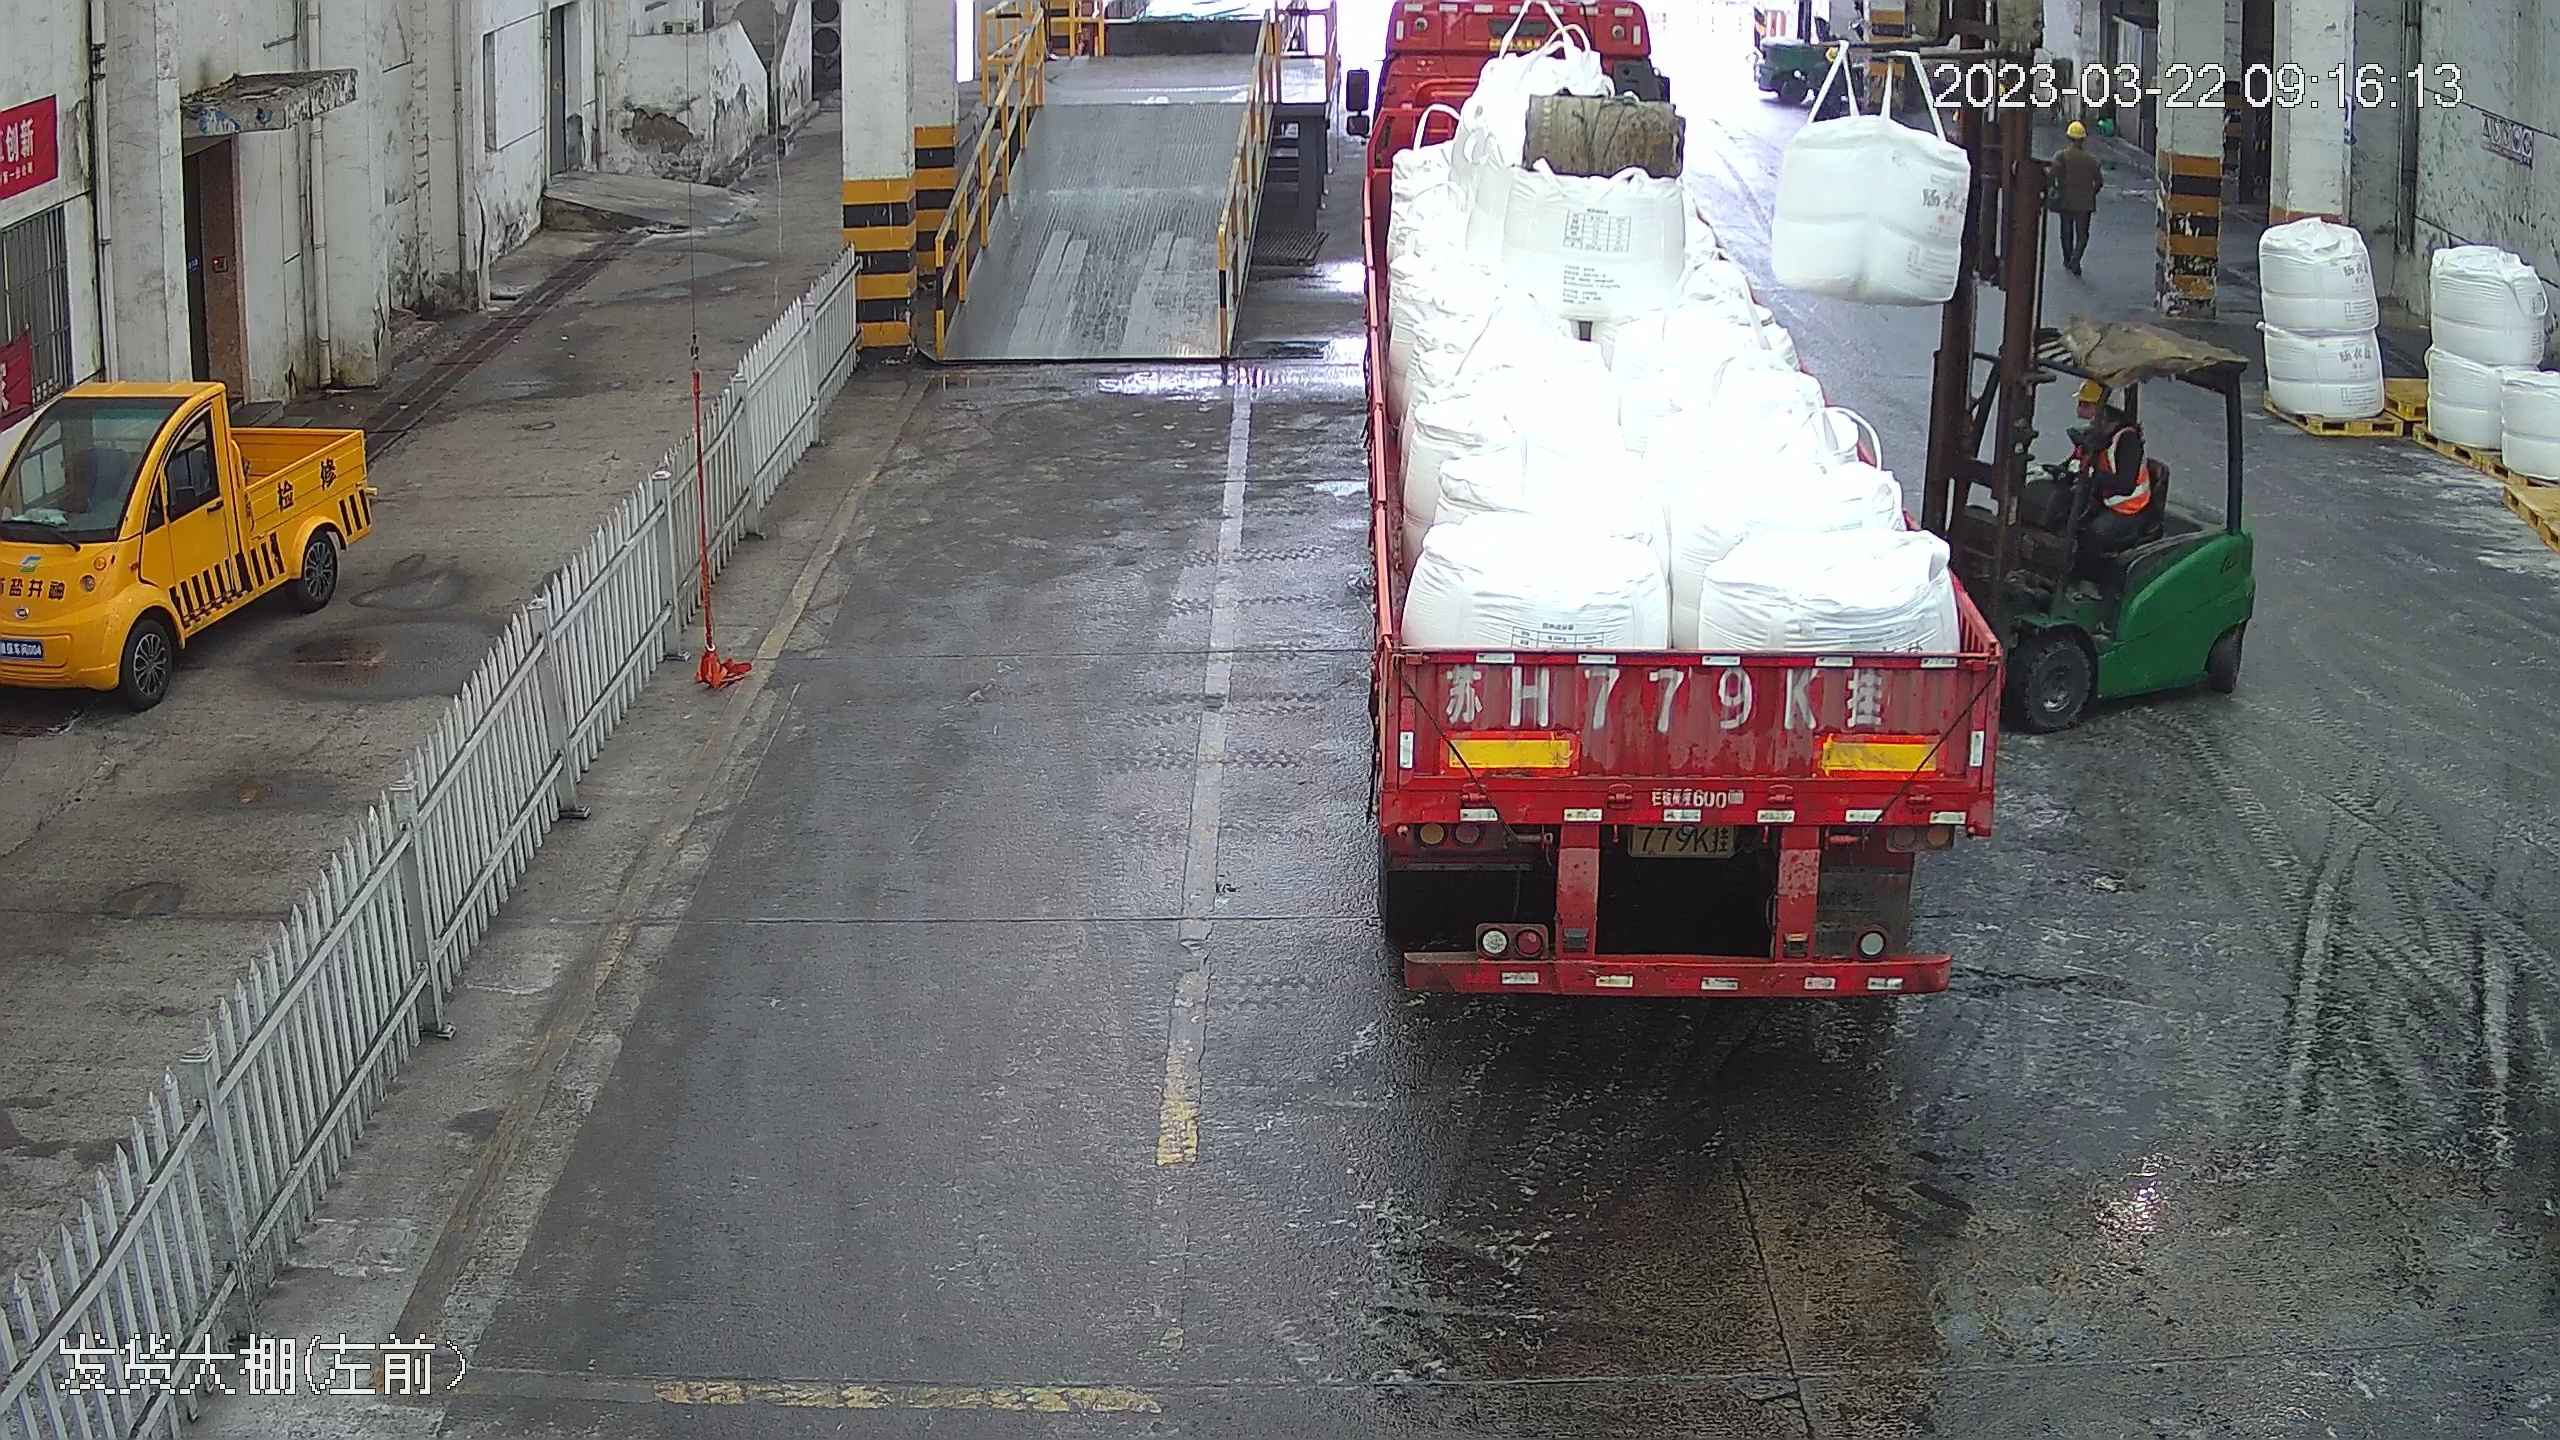head: (2075, 379, 2136, 456), (2051, 119, 2097, 171)
helmet: (2078, 379, 2107, 403), (2065, 122, 2085, 138)
people: (2048, 117, 2102, 281)
truck: (1335, 1, 1999, 989)
